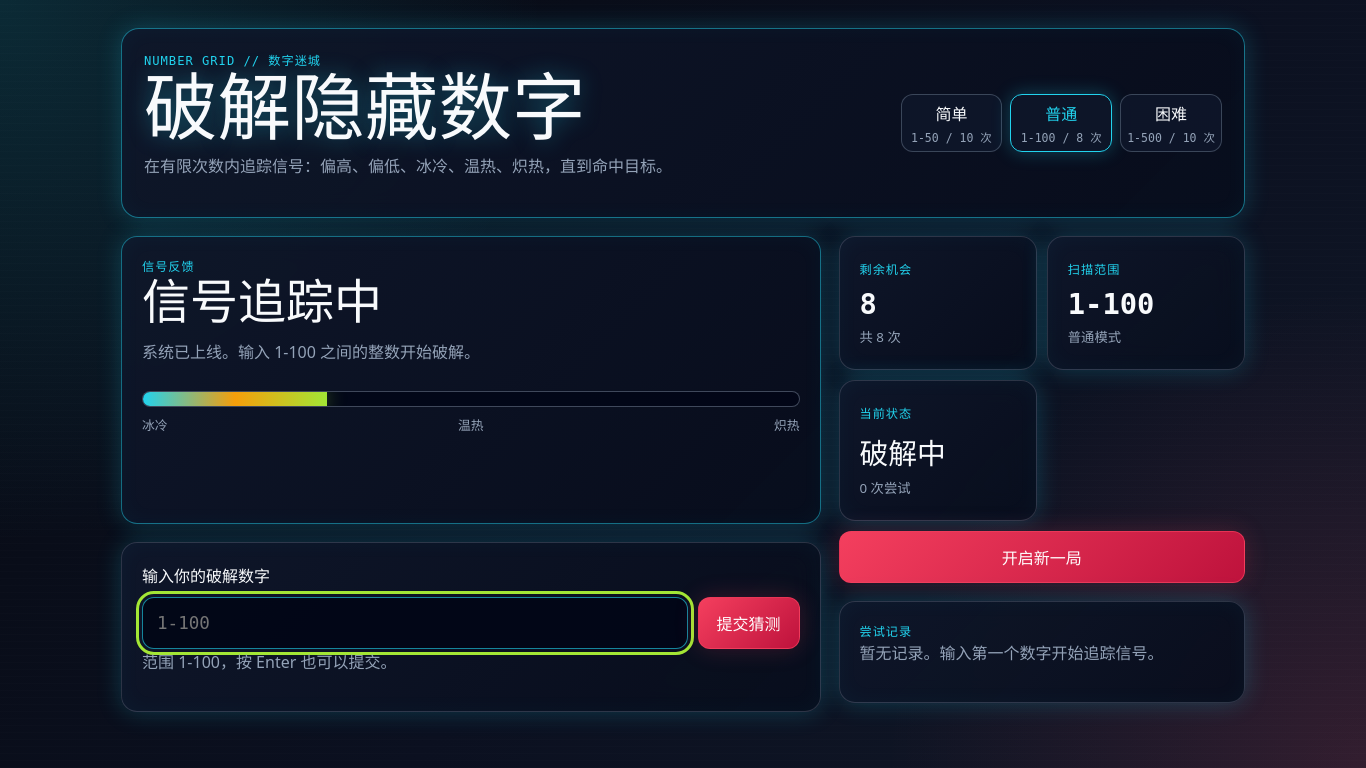
App › adds a history row for an accepted guess and clears it on reset
Type "1" into the field labelled "输入你的破解数字". click: (415, 623)
box: x1=142 y1=597 x2=688 y2=649
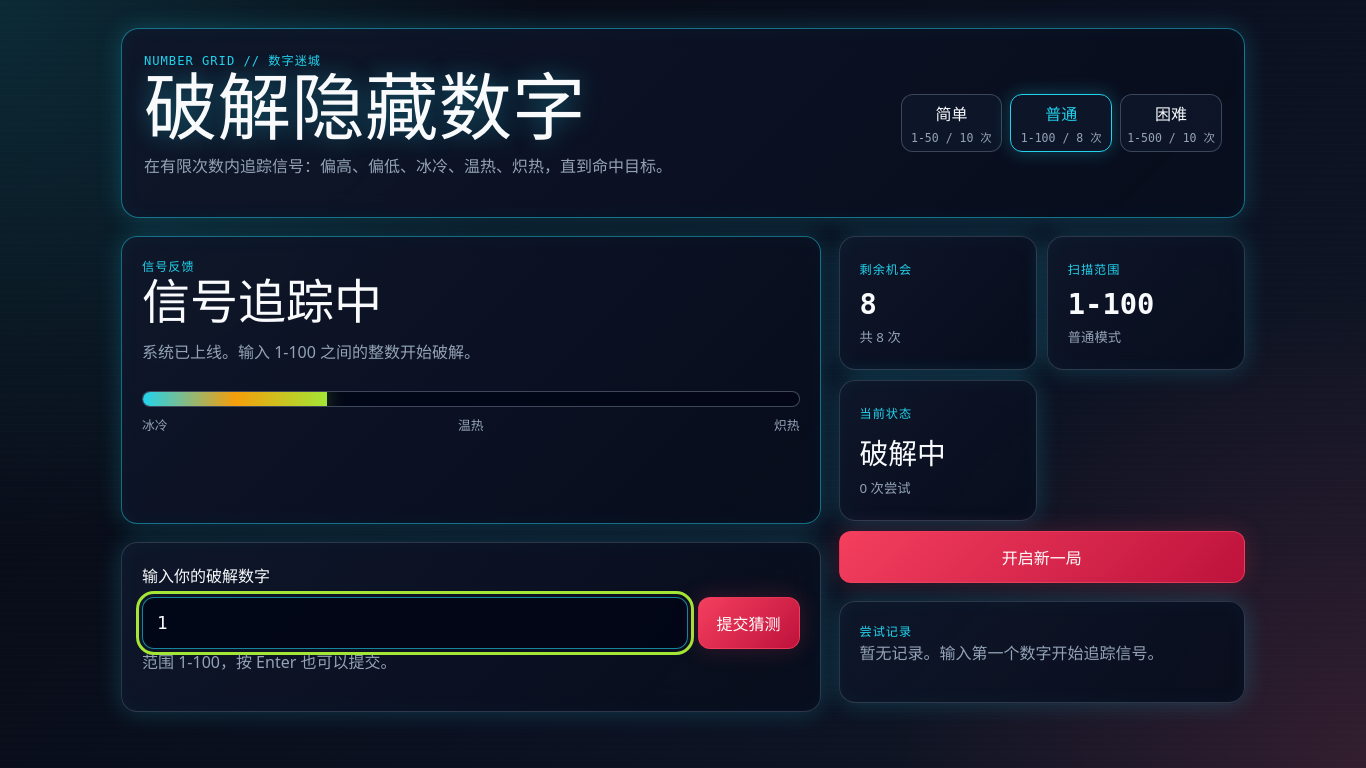
Click the button "提交猜测". click: (748, 623)
box: x1=698 y1=597 x2=800 y2=649
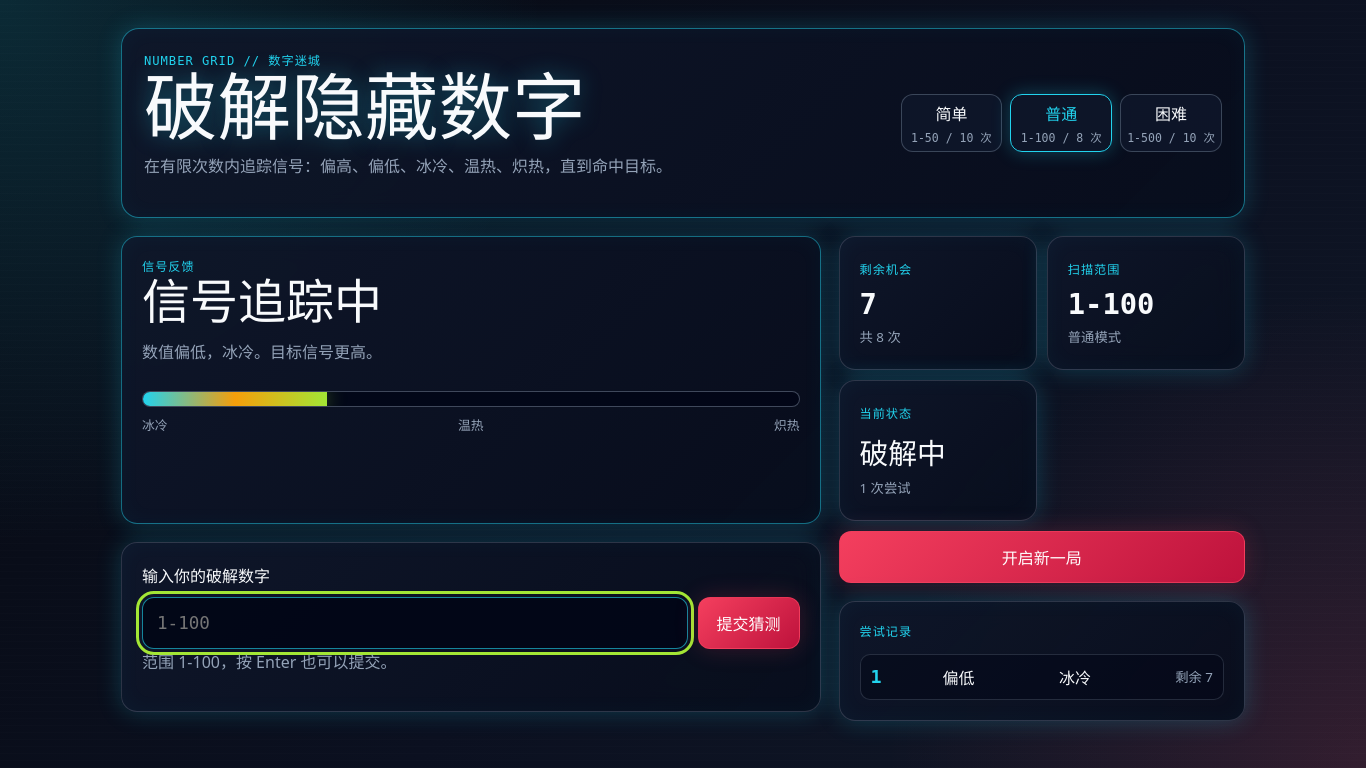
expect the text "1" is shown: met, box x1=870 y1=666 x2=882 y2=688
expect the text "暂无记录。输入第一个数字开始追踪信号。" is gone: met
Click the button "开启新一局". click: (1042, 557)
box: x1=838 y1=531 x2=1245 y2=583
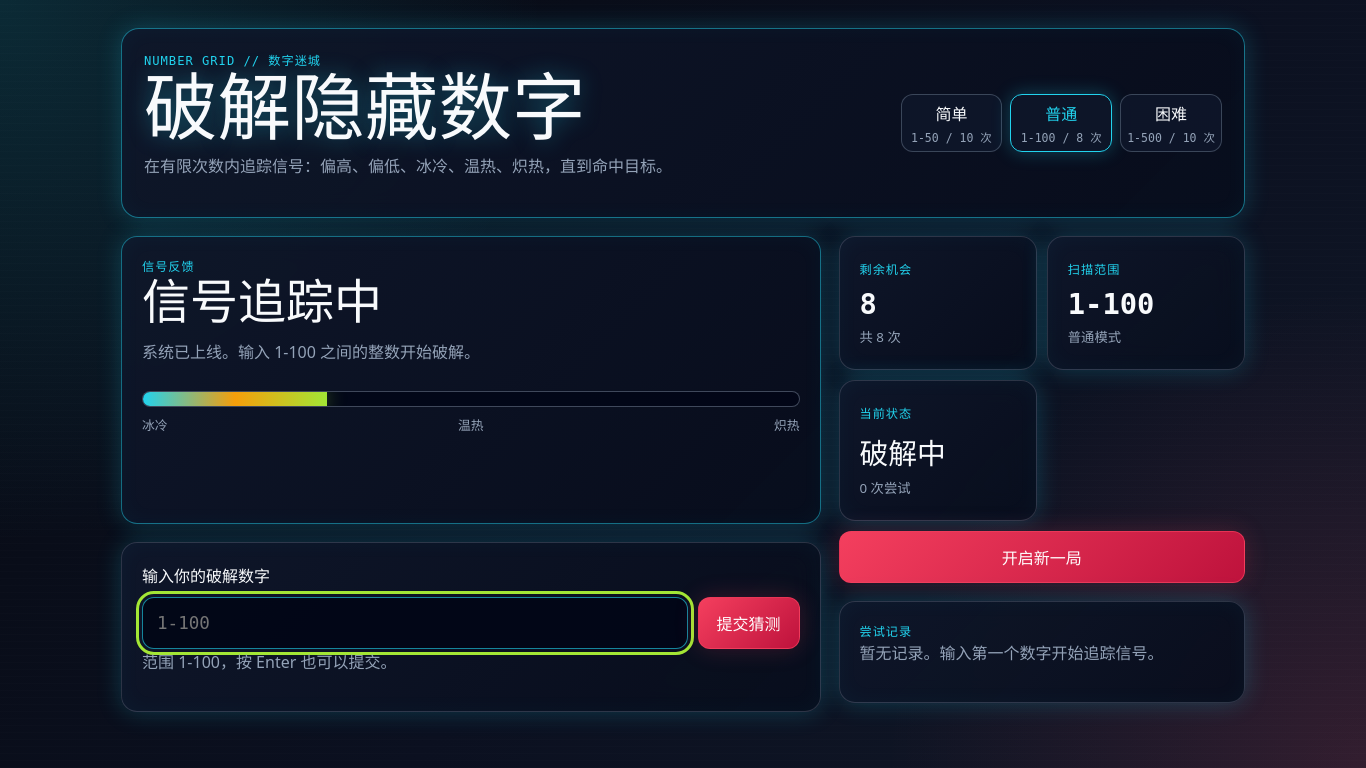
expect the text "暂无记录。输入第一个数字开始追踪信号。" is shown: met, box x1=860 y1=642 x2=1164 y2=664
